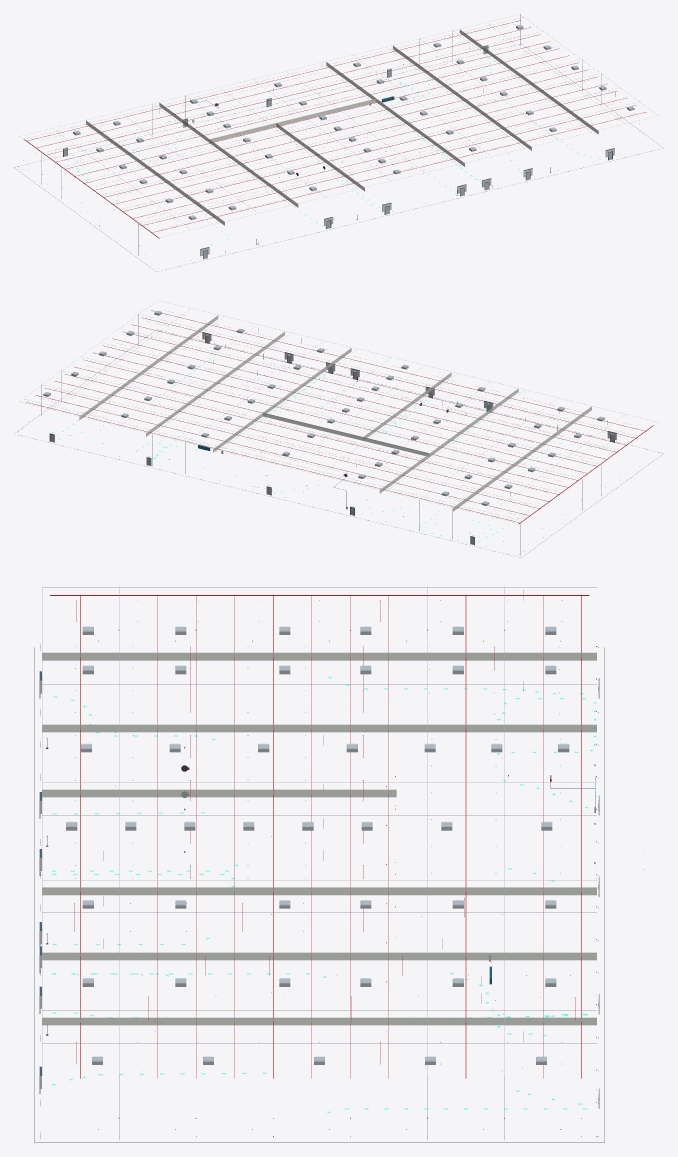
File: fire.glb
3 views of the same model, one above another, from view 1: azimuth 30°, elevation 25°; view 2: azimuth 150°, elevation 25°; view 3: azimuth 270°, elevation 25° (orthographic). The views are drawn at different scales.
Parts seen in each view (by area): view 1: SPRINKLERS, SMOKE-CURTAINS, LPS, EXITS; view 2: SPRINKLERS, SMOKE-CURTAINS, LPS, EXITS; view 3: SMOKE-CURTAINS, LPS, SPRINKLERS.
Part boxes in pixels (x1=…): SPRINKLERS: x1=24, y1=20, x2=646, y2=238; SMOKE-CURTAINS: x1=86, y1=29, x2=598, y2=225; LPS: x1=14, y1=14, x2=658, y2=269; EXITS: x1=63, y1=45, x2=614, y2=259; SPRINKLERS: x1=26, y1=310, x2=653, y2=524; SMOKE-CURTAINS: x1=79, y1=315, x2=591, y2=511; LPS: x1=17, y1=302, x2=663, y2=557; EXITS: x1=49, y1=332, x2=616, y2=544; SMOKE-CURTAINS: x1=42, y1=653, x2=596, y2=1025; LPS: x1=34, y1=586, x2=604, y2=1142; SPRINKLERS: x1=50, y1=594, x2=589, y2=1078.
Bounding box in the file's own units: 152 × 12.6 × 79.08.
